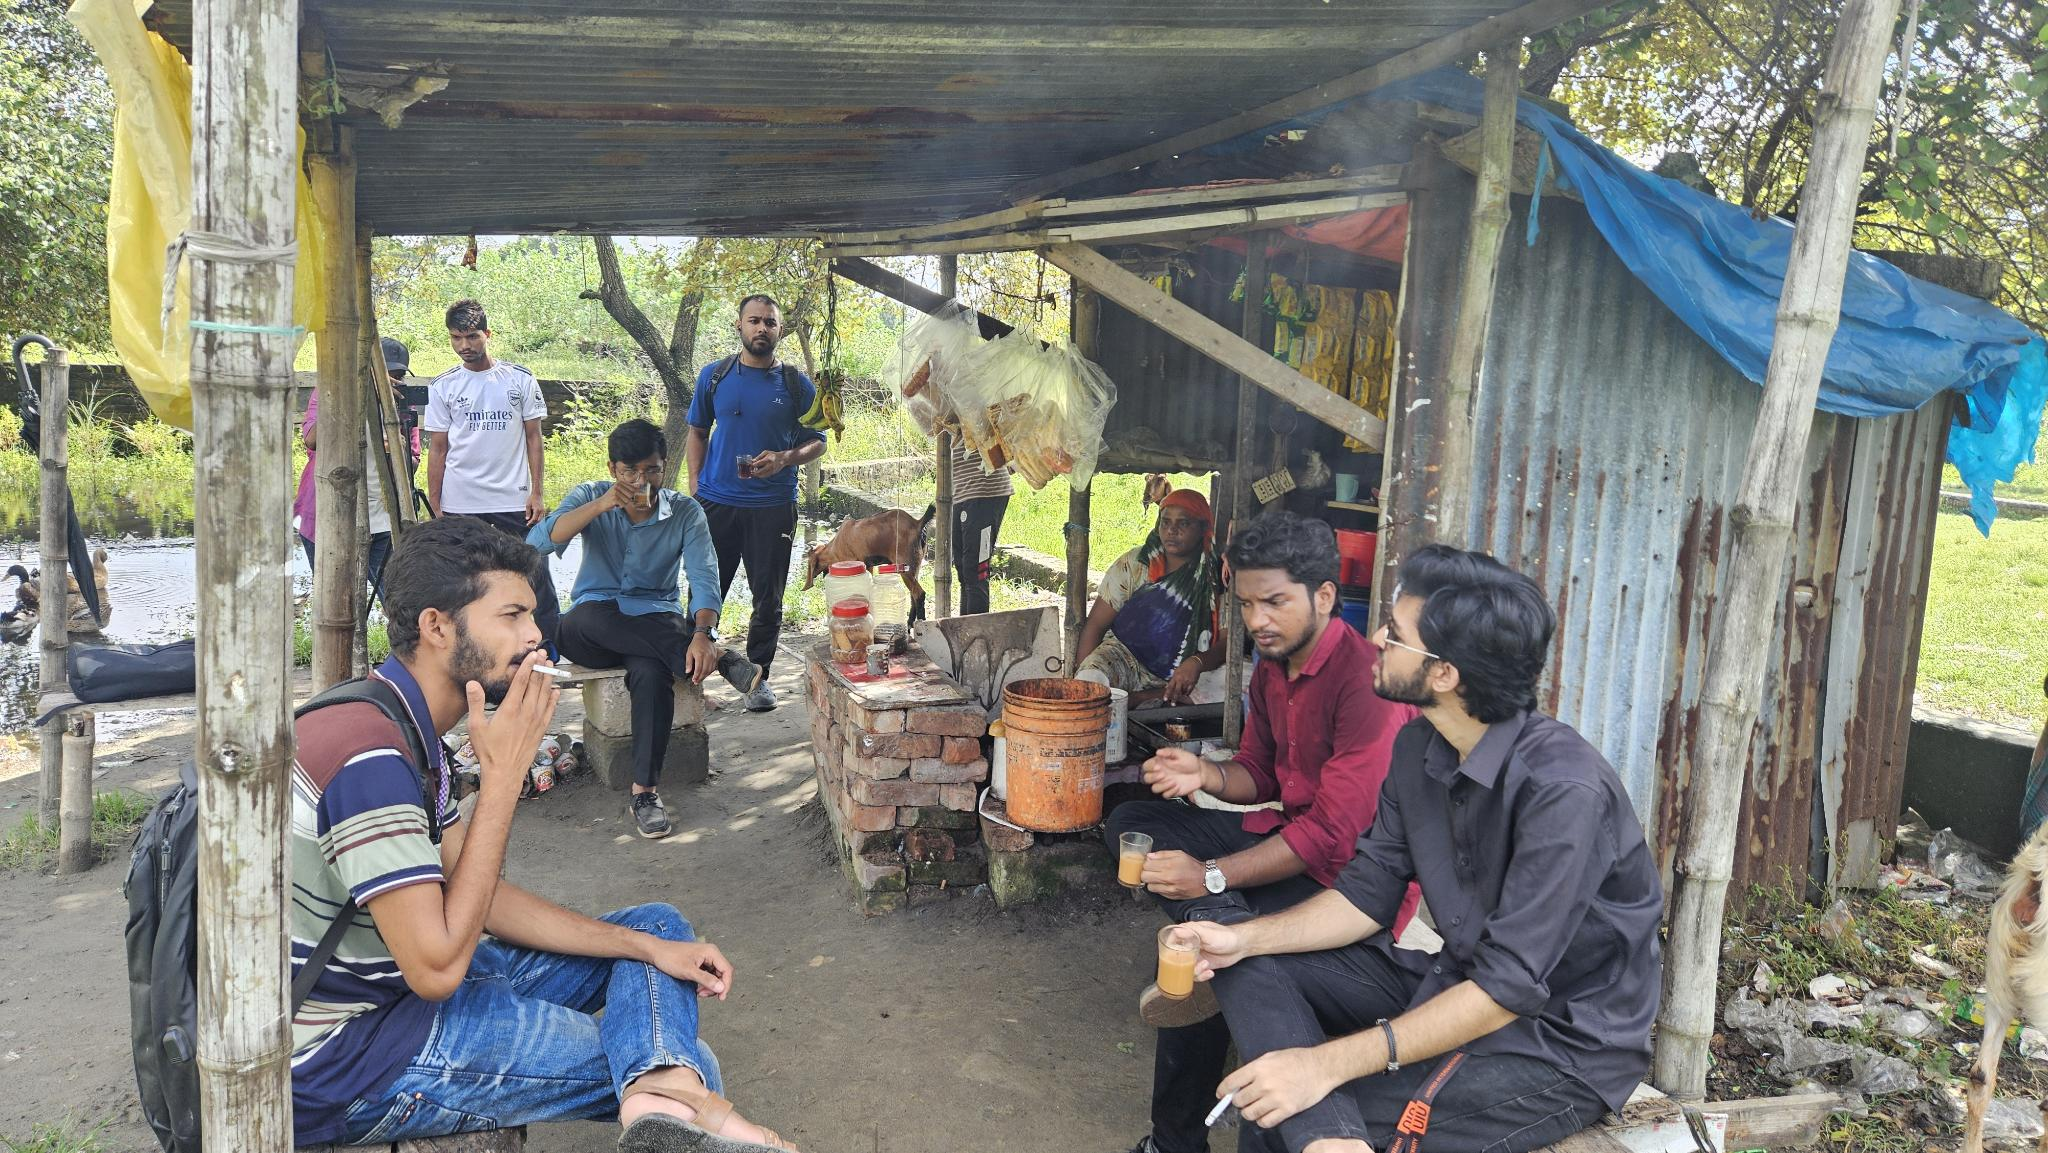cigarette: (1203, 1084, 1243, 1129), (532, 662, 572, 681)
nonSmoker: (1104, 512, 1370, 921), (527, 423, 762, 839), (684, 294, 827, 711), (1076, 488, 1228, 709), (422, 299, 547, 541)
smoker: (288, 517, 800, 1153), (1167, 546, 1663, 1153)
